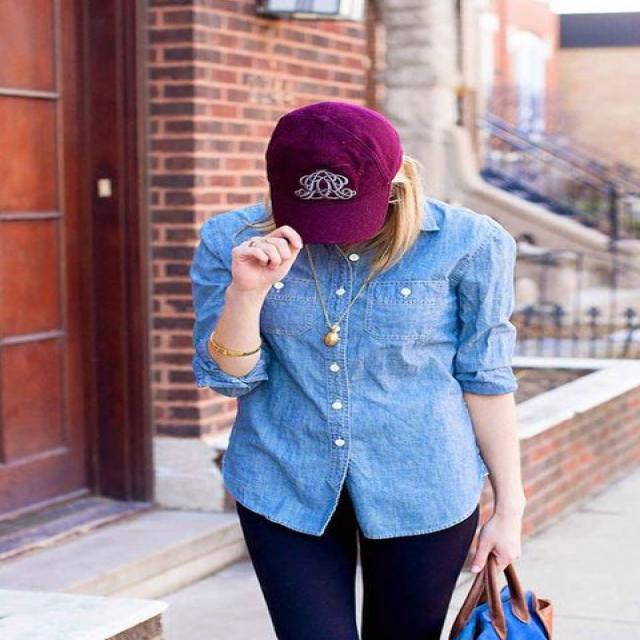3_gorra: (271, 102, 404, 235)
